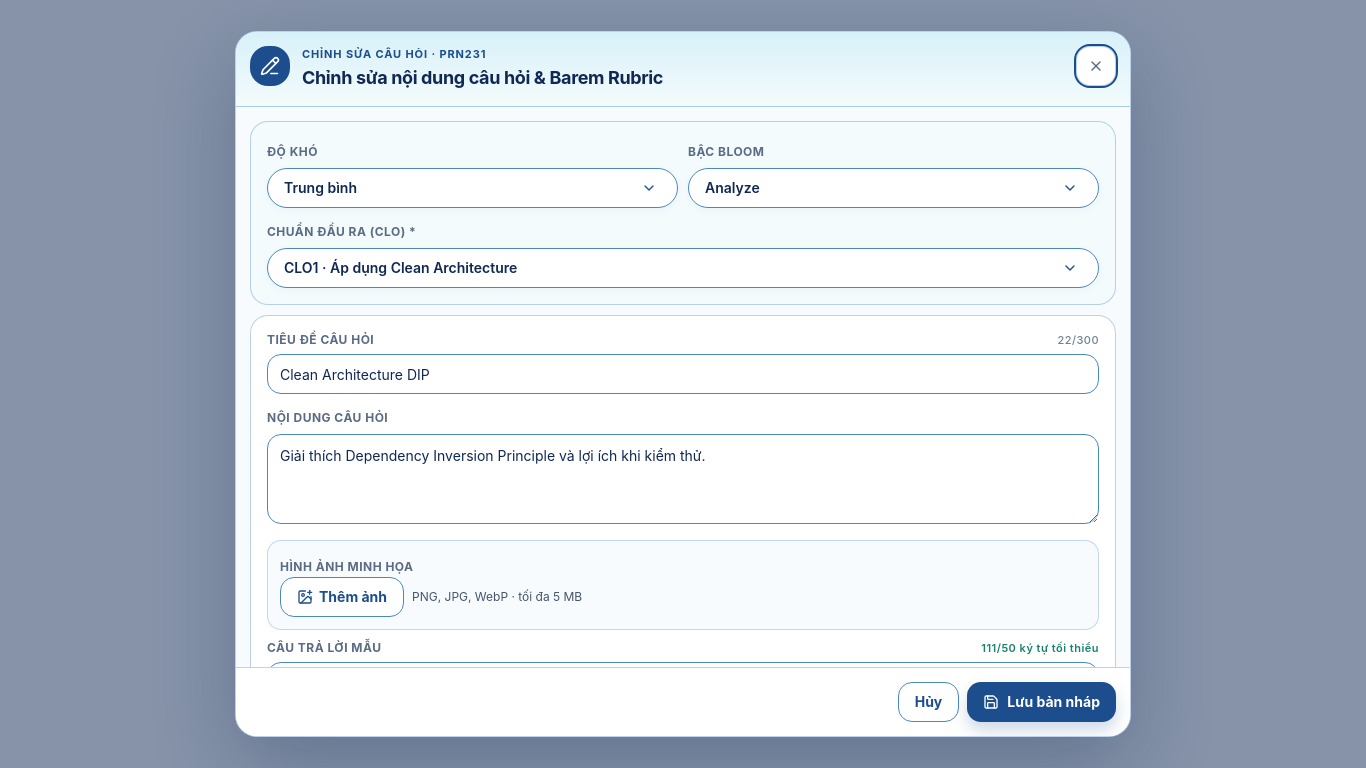
EditQuestionDraftDialog — MF-05 SELECTED_CLOS CLO guard › does not offer a null "Chưa gắn CLO" option when active CLOs exist and keeps a valid CLO selected
Later steps or results of the test are not shown.
Click the button with aria-label "Chọn chuẩn đầu ra CLO". click: (401, 268)
box: [267,248,1099,288]
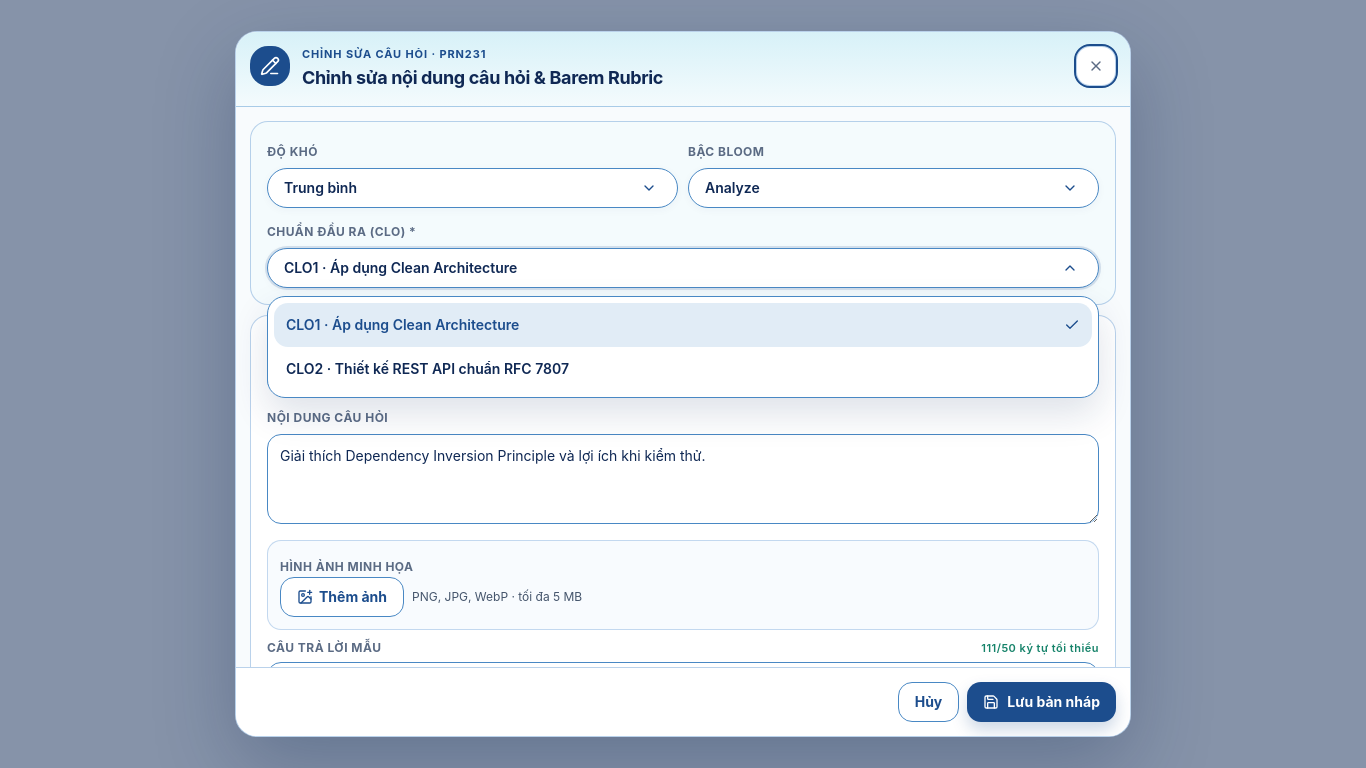
Expected: the option "CLO1 · Áp dụng Clean Architecture" is shown, [274,303,1092,347]
Expected: the option "CLO2 · Thiết kế REST API chuẩn RFC 7807" is shown, [274,347,1092,391]
